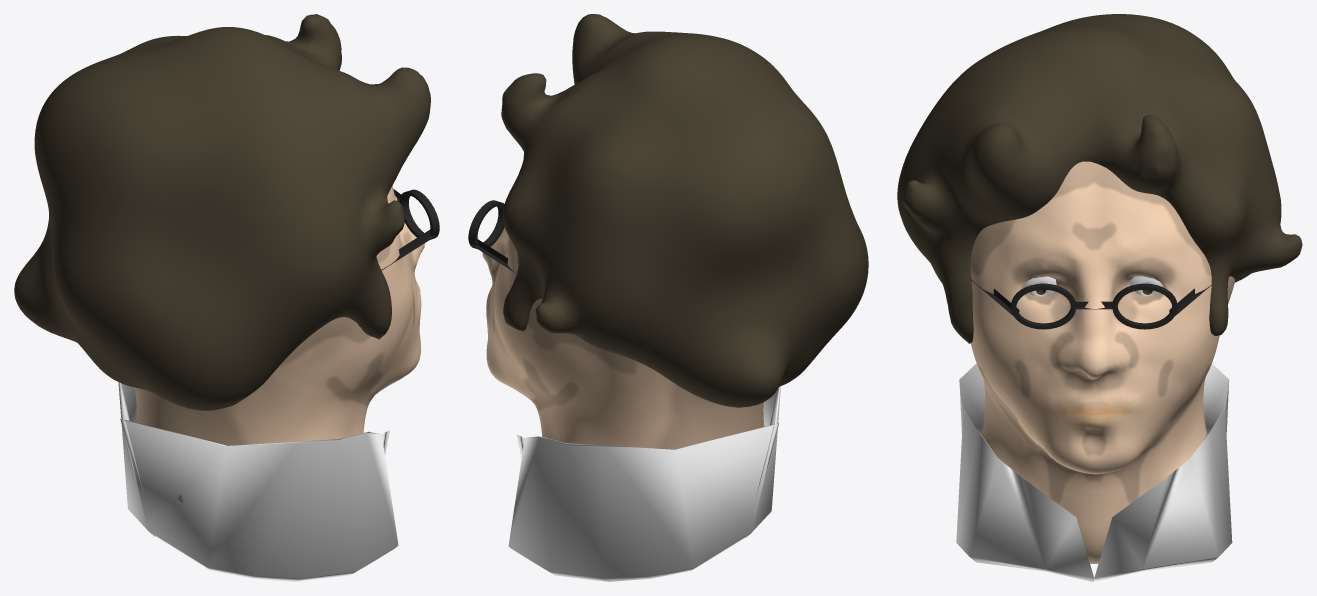
The model's file is schubert.glb.
3 views of the same model, side by side, from view 1: azimuth 30°, elevation 25°; view 2: azimuth 150°, elevation 25°; view 3: azimuth 270°, elevation 25° (orthographic). The views are drawn at different scales.
Parts seen in each view (by area): view 1: Mball.018, Plane, Icosphere, Cylinder; view 2: Mball.018, Plane, Icosphere, Cylinder; view 3: Mball.018, Icosphere, Plane, Cylinder, Sphere, Cube.001.
Boxes of the visible parts, left/top/right/bottom form: Mball.018: left=14, top=14, right=430, bottom=410; Plane: left=118, top=382, right=398, bottom=581; Icosphere: left=134, top=186, right=424, bottom=502; Cylinder: left=399, top=189, right=439, bottom=239; Mball.018: left=501, top=14, right=868, bottom=407; Plane: left=508, top=386, right=780, bottom=581; Icosphere: left=482, top=227, right=764, bottom=449; Cylinder: left=468, top=200, right=504, bottom=248; Mball.018: left=897, top=14, right=1302, bottom=343; Icosphere: left=970, top=161, right=1234, bottom=563; Plane: left=956, top=363, right=1232, bottom=581; Cylinder: left=1011, top=283, right=1177, bottom=329; Sphere: left=1025, top=276, right=1163, bottom=296; Cube.001: left=970, top=279, right=1211, bottom=315.
Bounding box in the file's own units: 1.98 × 2.61 × 1.95.
5 materials, 1 textured.
